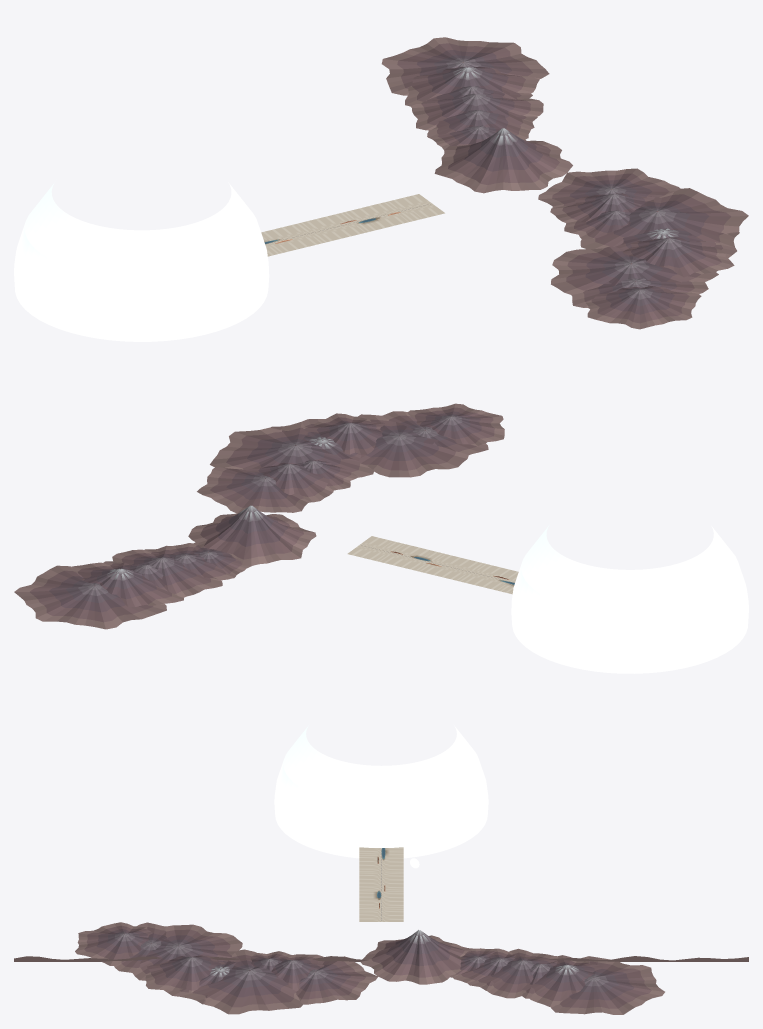
The model's file is atacama.glb.
The picture shows the model from 3 angles, top to bottom: view 1: azimuth 30°, elevation 25°; view 2: azimuth 150°, elevation 25°; view 3: azimuth 270°, elevation 25°; orthographic projection. The views are drawn at different scales.
Parts seen in each view (by area): view 1: Peaks, Sky_000; view 2: Peaks, Sky_000; view 3: Peaks, Sky_000.
Boxes of the visible parts, x1,y1,x2,y2 form: Peaks: (381,37,748,329); Sky_000: (14,182,269,341); Peaks: (14,403,504,629); Sky_000: (511,525,748,673); Peaks: (14,922,748,1014); Sky_000: (274,725,488,858).
Size of the model in its own units: 46567 by 6806 by 56260.
